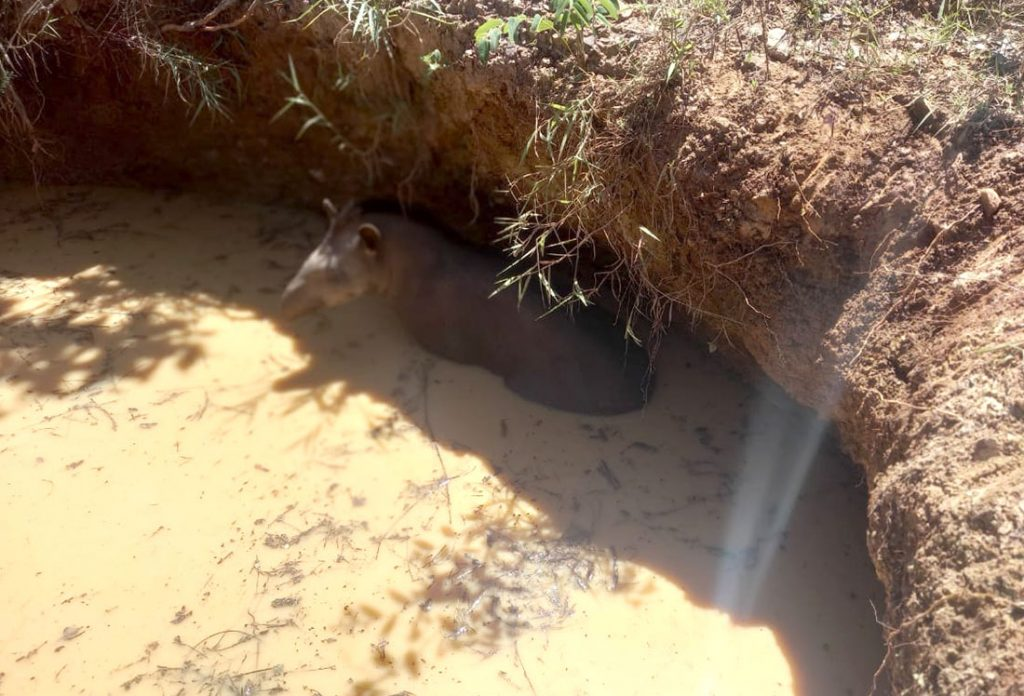Anta: (270, 184, 661, 431)
